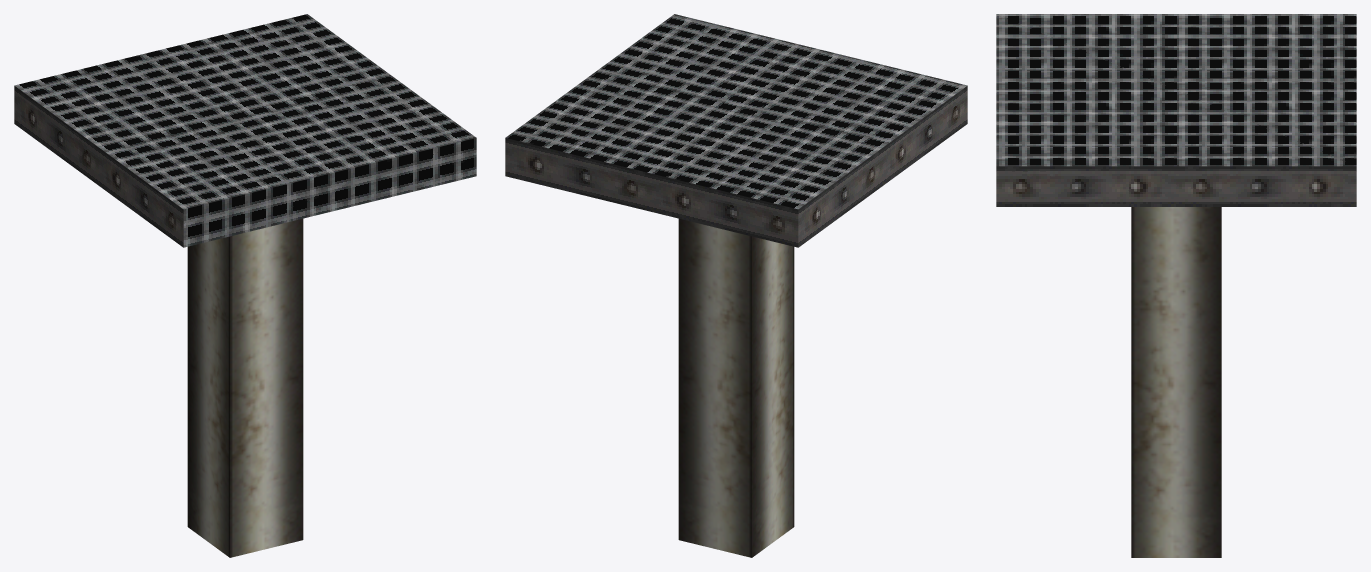
Rendered from phil.obj.
The picture shows the model from 3 angles, left to right: view 1: azimuth 30°, elevation 25°; view 2: azimuth 150°, elevation 25°; view 3: azimuth 270°, elevation 25°; orthographic projection. The views are drawn at different scales.
Parts seen in each view (by area): view 1: lift2; view 2: lift2; view 3: lift2.
Part boxes in pixels (bbox=[...]): lift2: bbox=[14, 14, 476, 557]; lift2: bbox=[505, 14, 967, 557]; lift2: bbox=[996, 14, 1356, 557].
Bounding box in the file's own units: 3.12 × 4.29 × 3.12.
3 materials, 3 textured.
